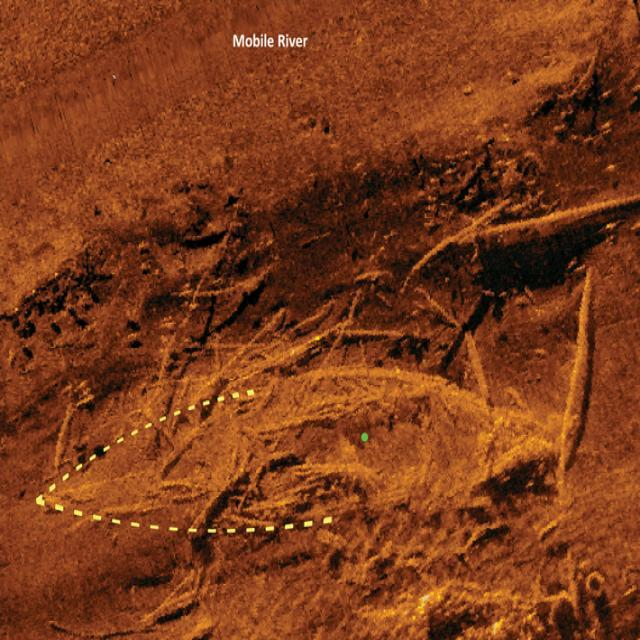shipwreck: (55, 369, 566, 518)
